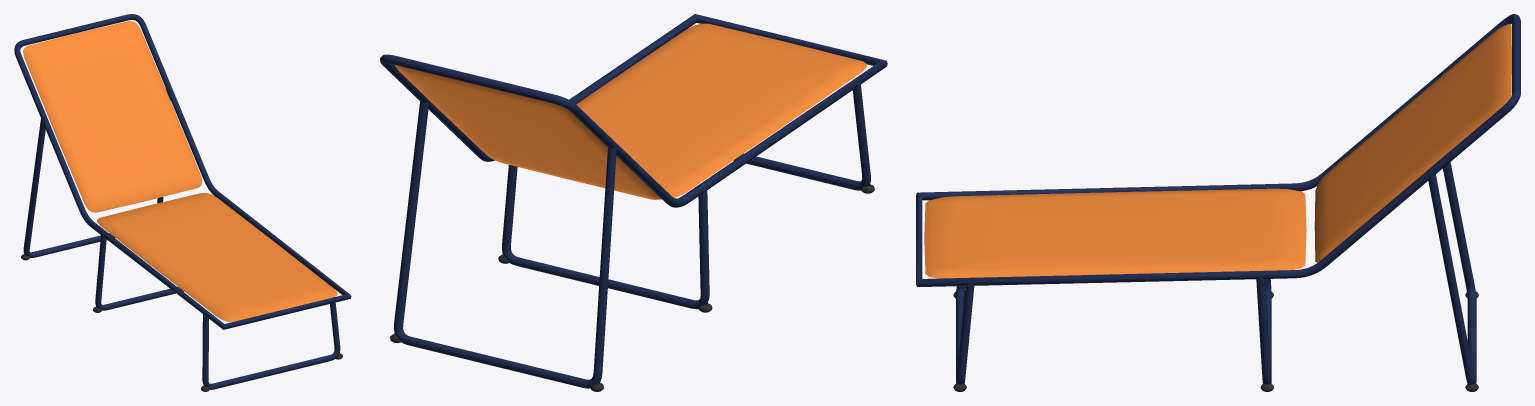
File: espreguicadeira_dobravel_laranja.glb
3 renders of one model, left to right at view 1: azimuth 30°, elevation 25°; view 2: azimuth 150°, elevation 25°; view 3: azimuth 270°, elevation 25°, orthographic. The views are drawn at different scales.
Visible parts, largest first — view 1: espreguicadeira_dobravel_laranja; view 2: espreguicadeira_dobravel_laranja; view 3: espreguicadeira_dobravel_laranja.
Part boxes in pixels (bbox=[...]): espreguicadeira_dobravel_laranja: bbox=[14, 14, 351, 391]; espreguicadeira_dobravel_laranja: bbox=[380, 14, 887, 391]; espreguicadeira_dobravel_laranja: bbox=[916, 14, 1520, 391].
Size of the model in its own units: 0.678 by 0.943 by 1.77.
Materials: 1 (1 with a texture image).
